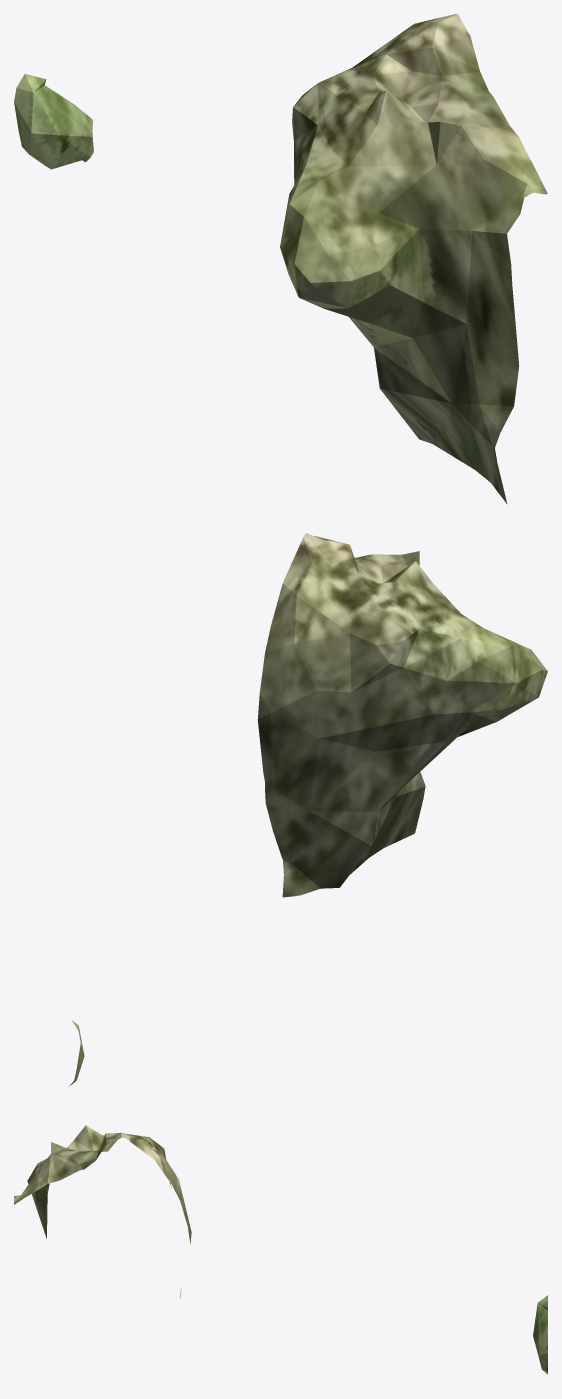
3 renders of one model, top to bottom at view 1: azimuth 30°, elevation 25°; view 2: azimuth 150°, elevation 25°; view 3: azimuth 270°, elevation 25°, orthographic. The views are drawn at different scales.
Size of the model in its own units: 0.8475 by 1.51 by 2.95.
Materials: 1 (1 with a texture image).
